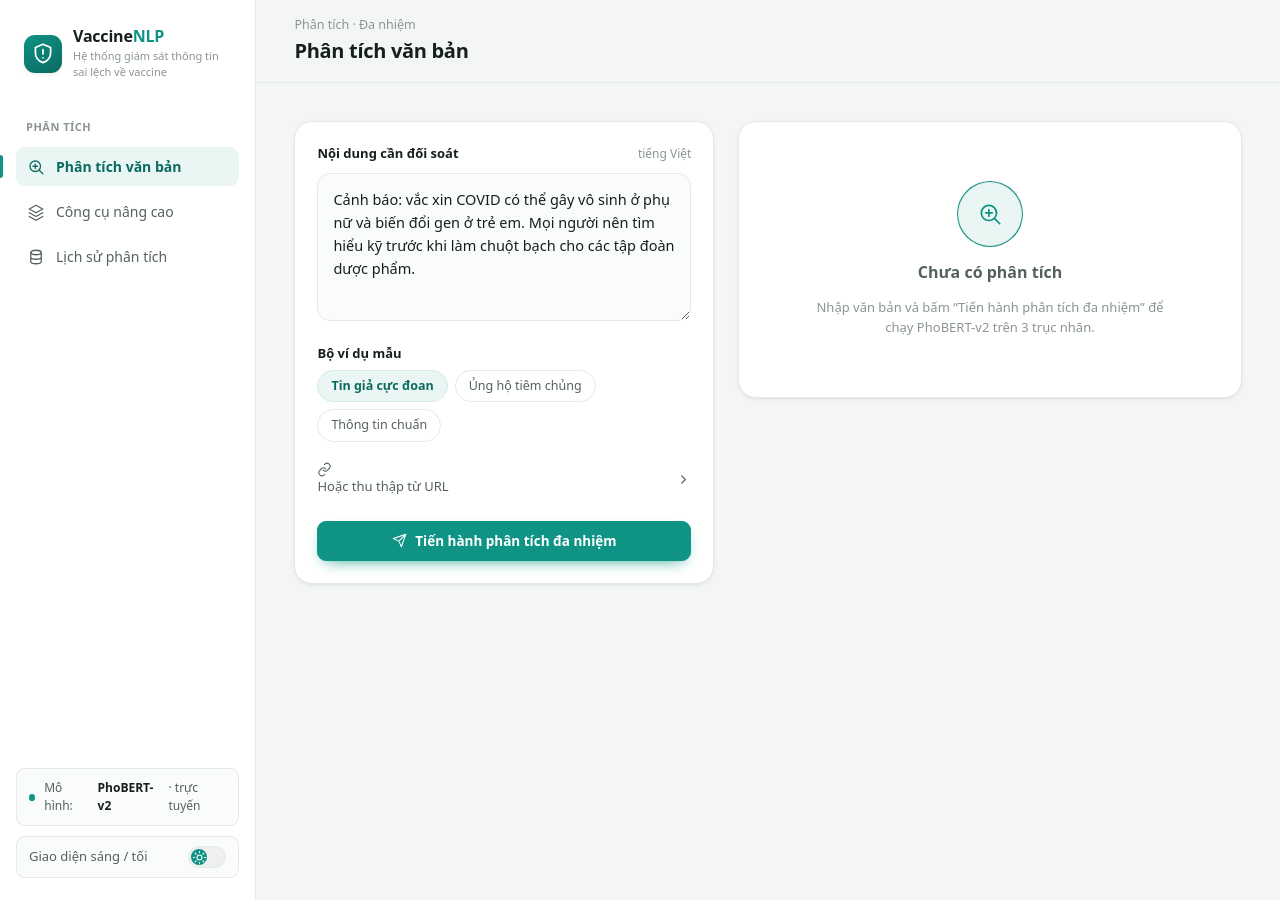
Scenario: VaccineNLP React Frontend Unit Tests › runs batch analysis through the database-backed endpoint
The image size is (1280, 900).
Click the button "Công cụ nâng cao" at coordinates (128, 212), box [16,192,239,231]
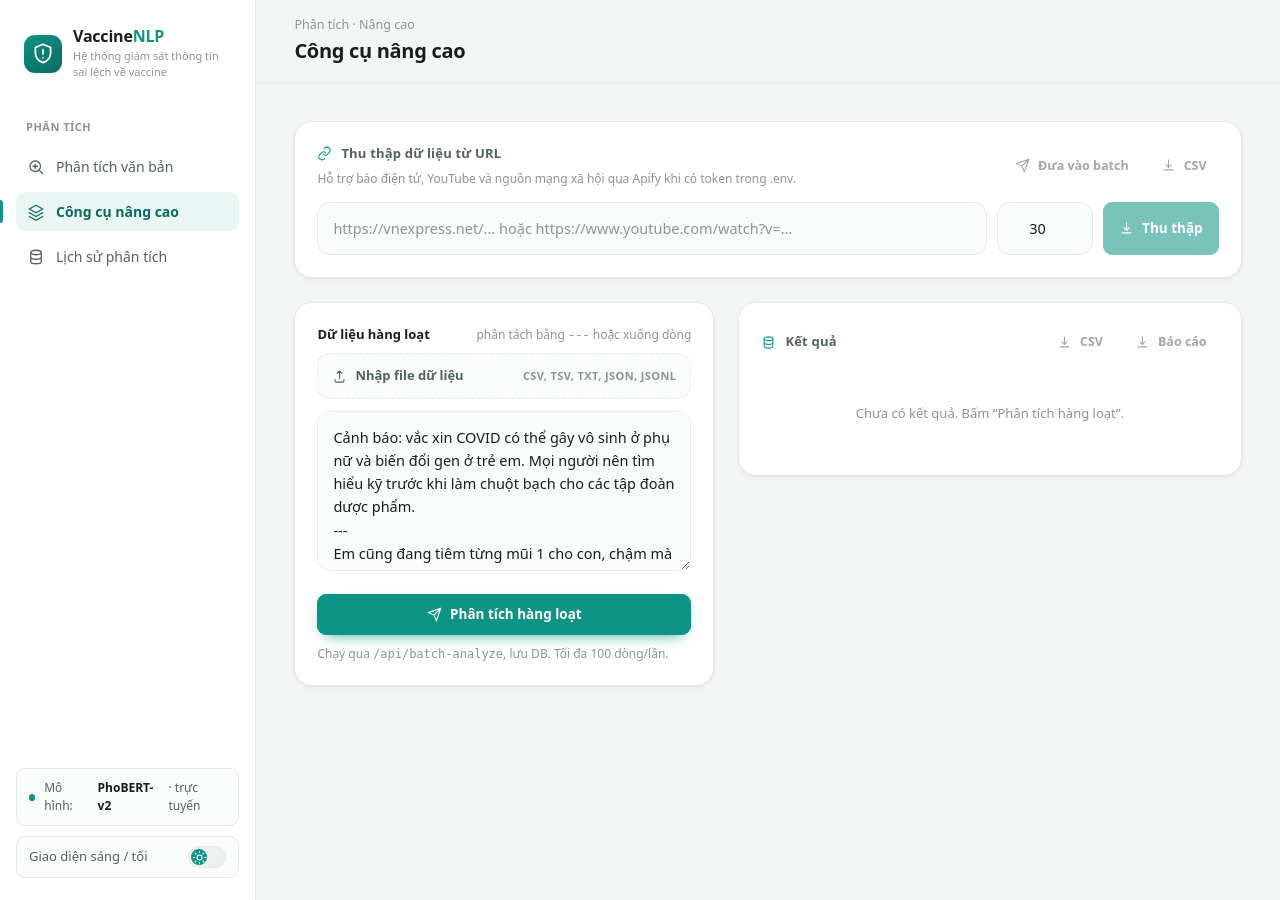
Click the button "Phân tích hàng loạt" at coordinates (504, 614), box [317,594,691,635]
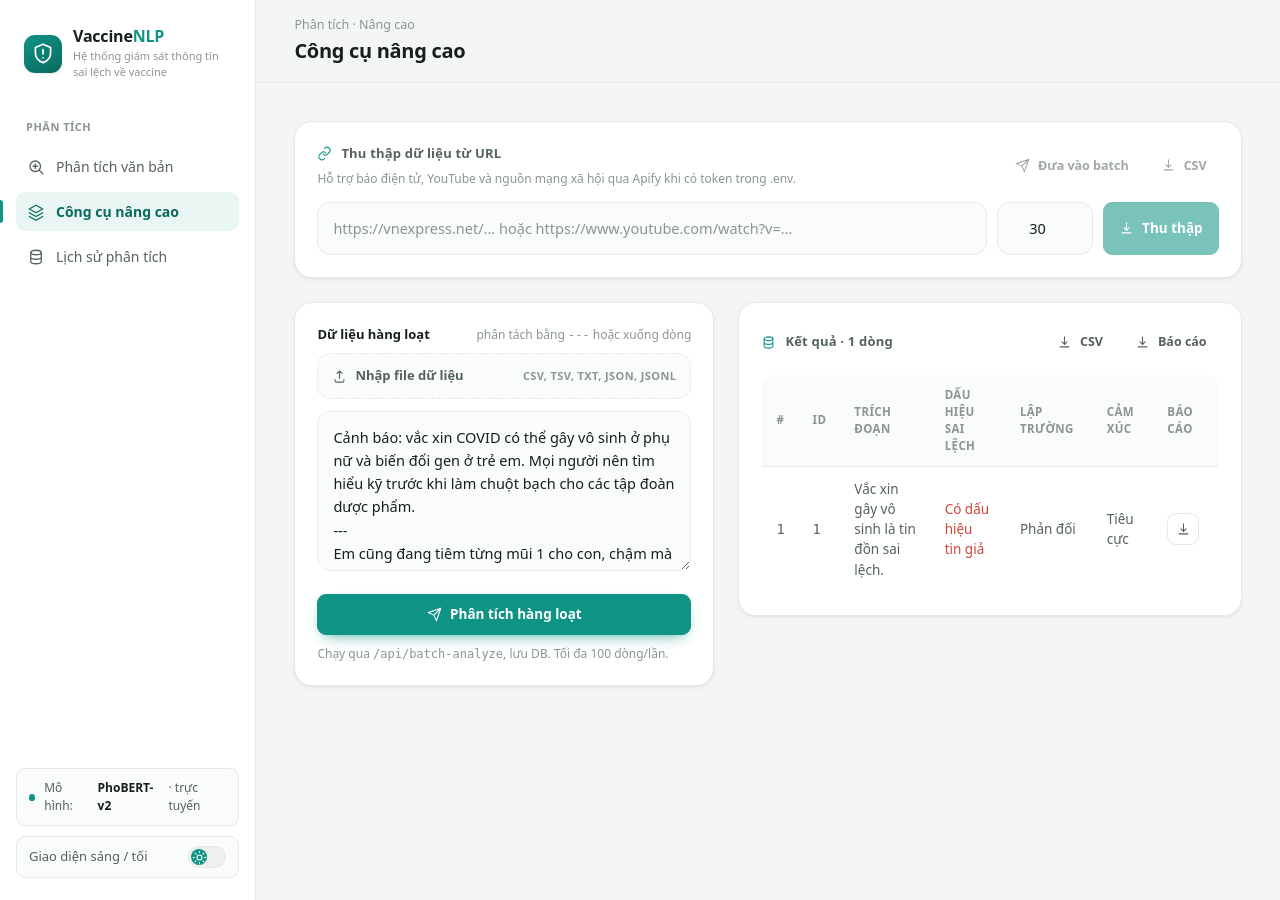
Result: the button "CSV" in the row of "Thu thập dữ liệu từ URL" is shown at [1149,148,1219,183]
Result: the button "Báo cáo" is shown at [1123,325,1219,360]
Result: the text "Vắc xin gây vô sinh là tin đồn sai lệch." is shown at [840,466,931,592]
